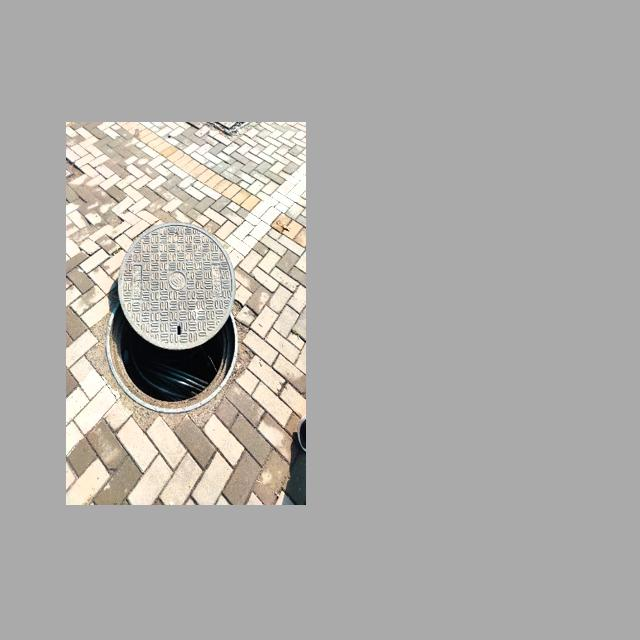uncovered: (105, 216, 244, 414)
